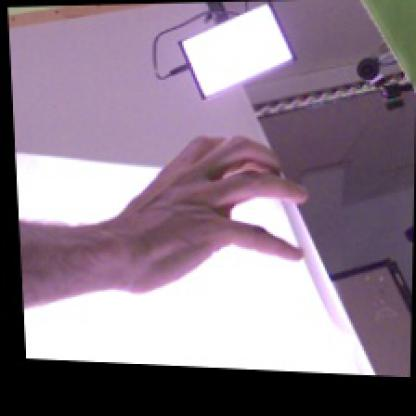Hand: (119, 134, 310, 296)
